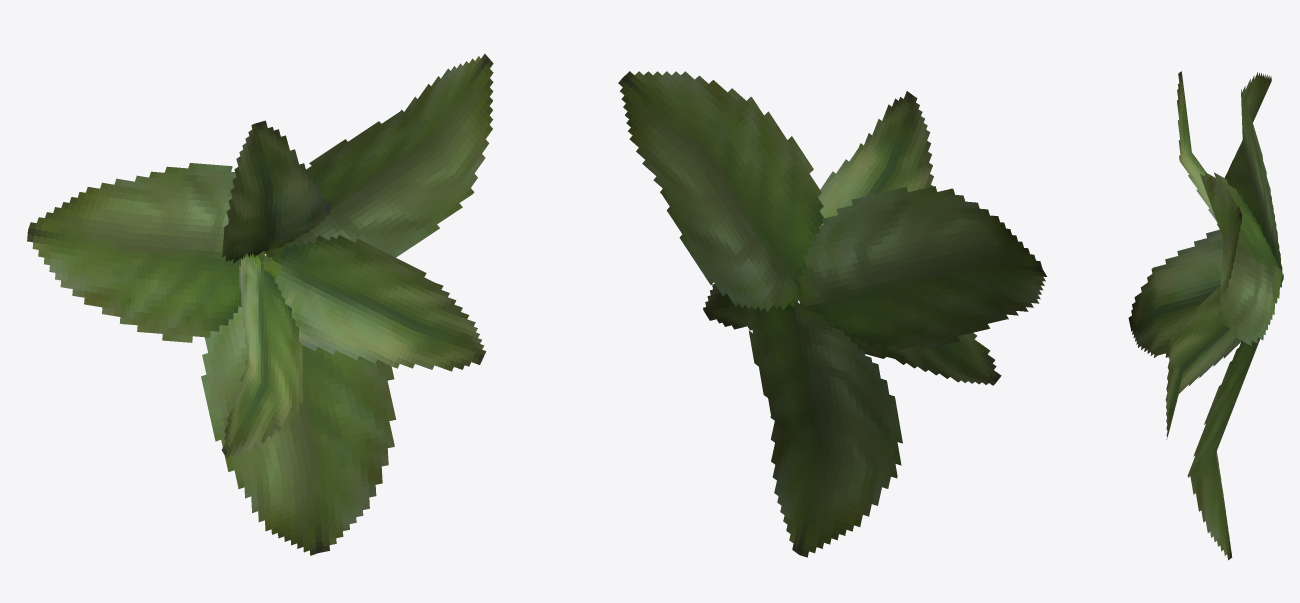
File: Plant 2.fbx
3 renders of one model, left to right at view 1: azimuth 30°, elevation 25°; view 2: azimuth 150°, elevation 25°; view 3: azimuth 270°, elevation 25°, orthographic. The views are drawn at different scales.
Visible parts, largest first — view 1: Plane; view 2: Plane; view 3: Plane.
Boxes of the visible parts, box(x1,y1,x2,y2) form: Plane: box(27, 53, 493, 555); Plane: box(618, 71, 1046, 557); Plane: box(1128, 71, 1283, 560).
Bounding box in the file's own units: 3.94 × 3.77 × 1.16.
